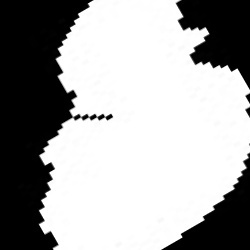spot: (38, 2, 248, 247)
